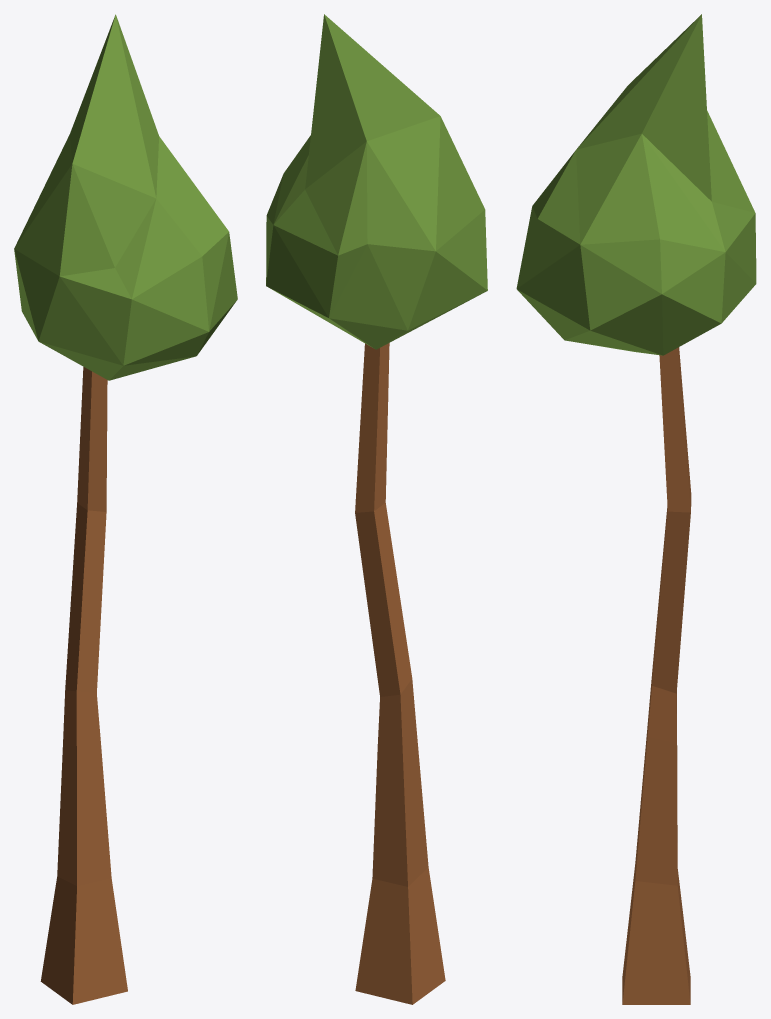
Rendered from Tree_5.fbx.
3 views of the same model, side by side, from view 1: azimuth 30°, elevation 25°; view 2: azimuth 150°, elevation 25°; view 3: azimuth 270°, elevation 25° (orthographic). The views are drawn at different scales.
Parts seen in each view (by area): view 1: M_Tree 5; view 2: M_Tree 5; view 3: M_Tree 5.
Part boxes in pixels (x1,y1,x2,y2): M_Tree 5: [14, 14, 237, 1004]; M_Tree 5: [266, 14, 487, 1004]; M_Tree 5: [516, 14, 756, 1004].
Size of the model in its own units: 47.78 by 224 by 48.53.
Materials: 1 (1 with a texture image).
